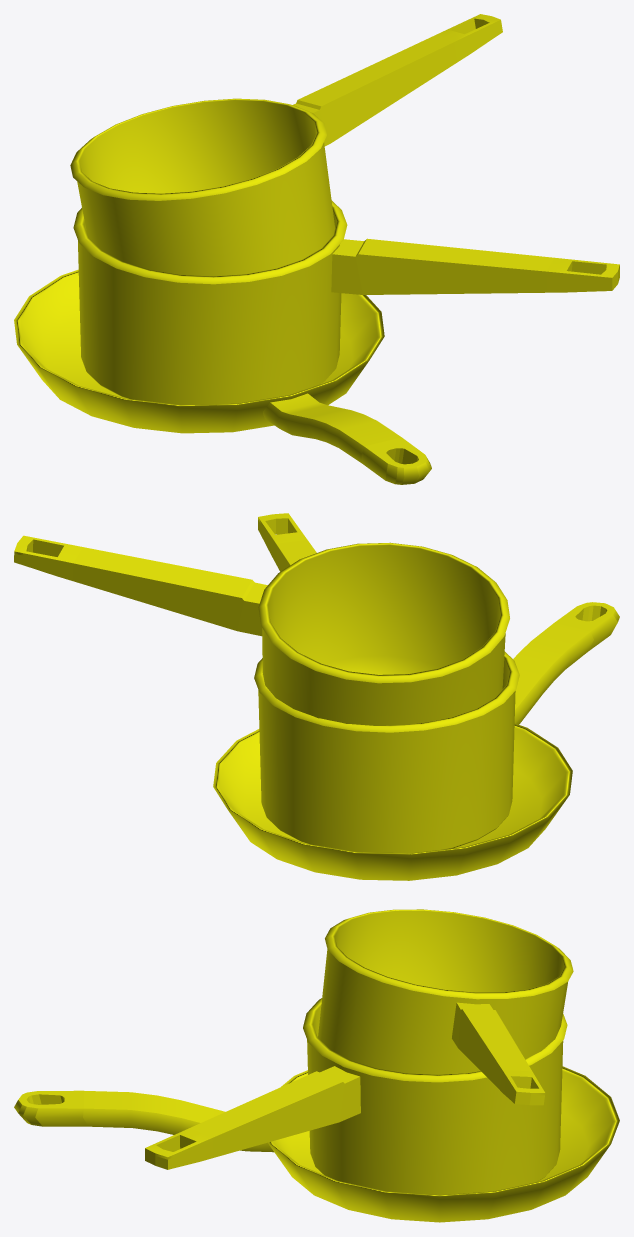
File: Pan_Pile_02_Lod0.fbx
3 renders of one model, top to bottom at view 1: azimuth 30°, elevation 25°; view 2: azimuth 150°, elevation 25°; view 3: azimuth 270°, elevation 25°, orthographic. The views are drawn at different scales.
Parts seen in each view (by area): view 1: Pan_Pile_02_Lod0; view 2: Pan_Pile_02_Lod0; view 3: Pan_Pile_02_Lod0.
Boxes of the visible parts, box(x1,y1,x2,y2) form: Pan_Pile_02_Lod0: box(14, 14, 619, 484); Pan_Pile_02_Lod0: box(14, 513, 619, 880); Pan_Pile_02_Lod0: box(14, 909, 619, 1222).
Size of the model in its own units: 62.66 by 28.16 by 67.55.
